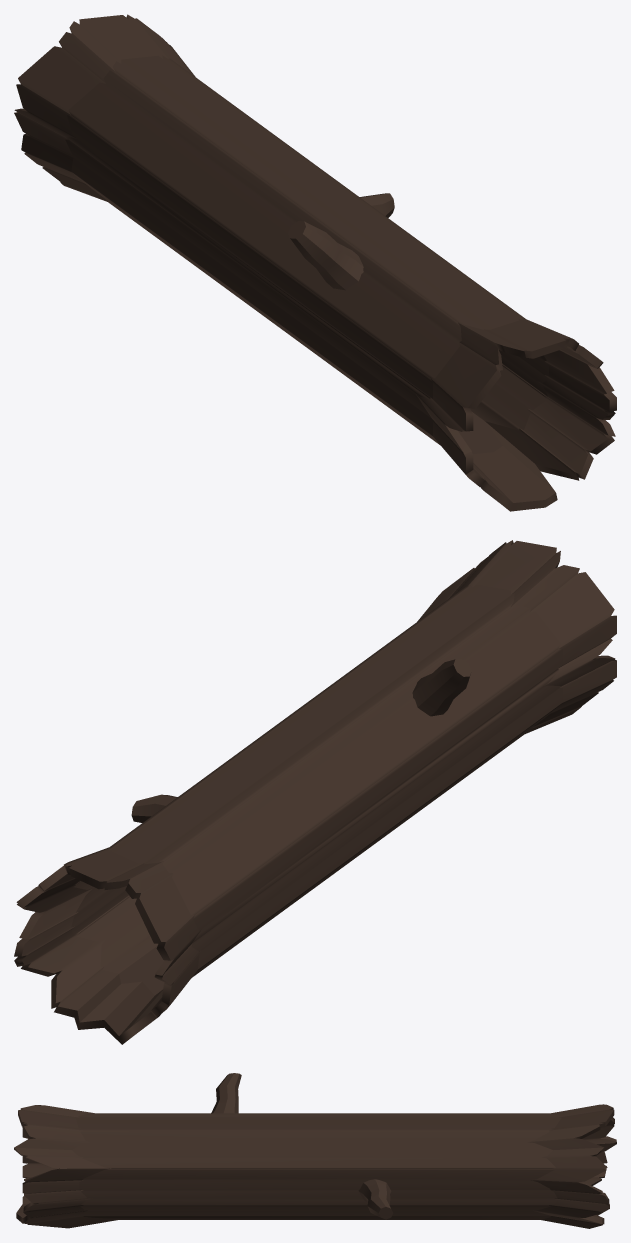
Rendered from Log.fbx.
3 views of the same model, one above another, from view 1: azimuth 30°, elevation 25°; view 2: azimuth 150°, elevation 25°; view 3: azimuth 270°, elevation 25° (orthographic). The views are drawn at different scales.
Visible parts, largest first — view 1: Log; view 2: Log; view 3: Log.
Part boxes in pixels (<box>): Log: <box>14,14,616,511</box>; Log: <box>14,540,616,1044</box>; Log: <box>14,1073,616,1228</box>.
Bounding box in the file's own units: 3.37 × 2.76 × 12.44.
